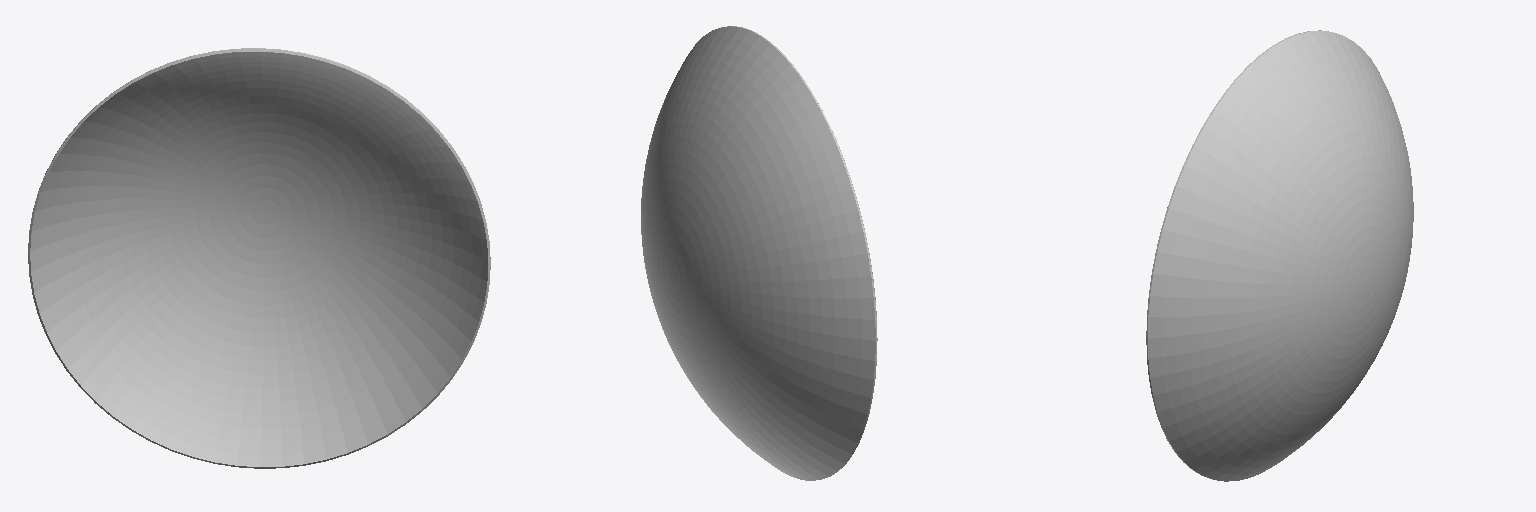
Rendered from cornea.obj.
3 renders of one model, left to right at view 1: azimuth 30°, elevation 25°; view 2: azimuth 150°, elevation 25°; view 3: azimuth 270°, elevation 25°, orthographic.
Visible parts, largest first — view 1: cornea.obj; view 2: cornea.obj; view 3: cornea.obj.
Part boxes in pixels (x1,y1,x2,y2): cornea.obj: (28, 48, 490, 468); cornea.obj: (641, 26, 877, 480); cornea.obj: (1146, 30, 1413, 481).
Size of the model in its own units: 0.0079 by 0.0094 by 0.0054.